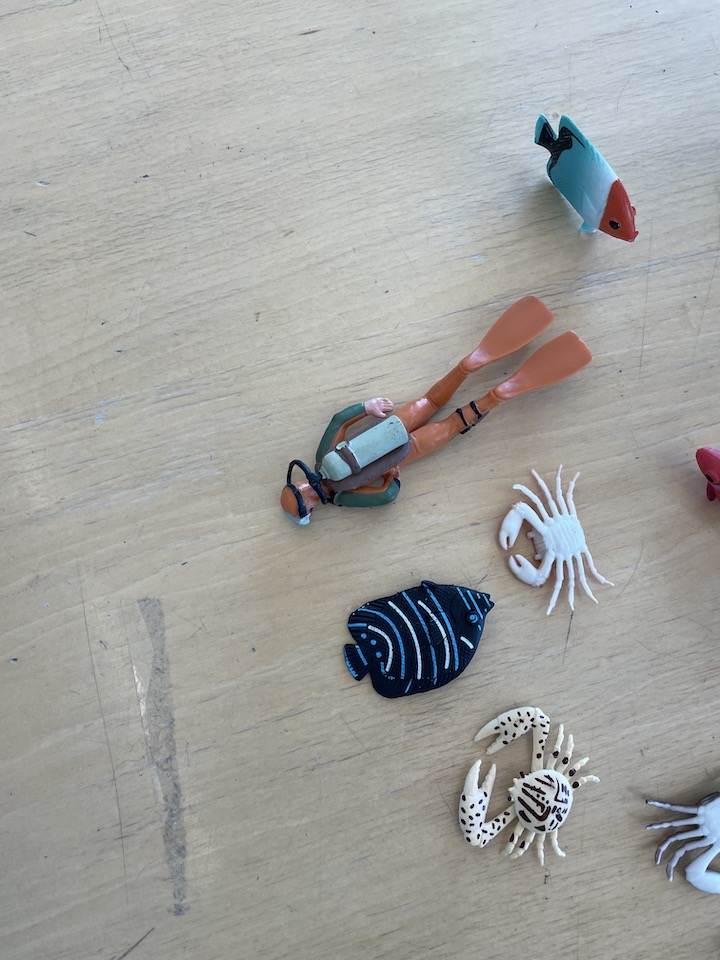crab: (455, 696, 602, 870), (493, 462, 617, 620), (641, 784, 720, 898)
diver: (279, 290, 596, 529)
fish: (341, 577, 500, 702), (527, 108, 642, 249), (693, 443, 720, 507)
